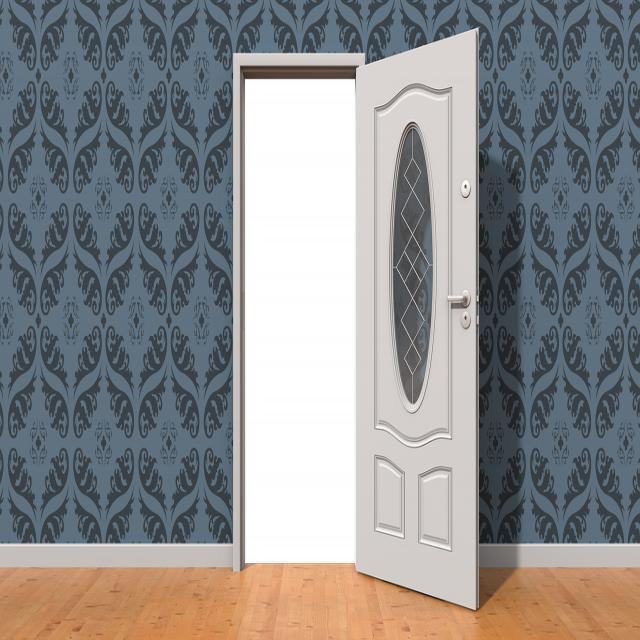Door: (353, 26, 479, 610)
